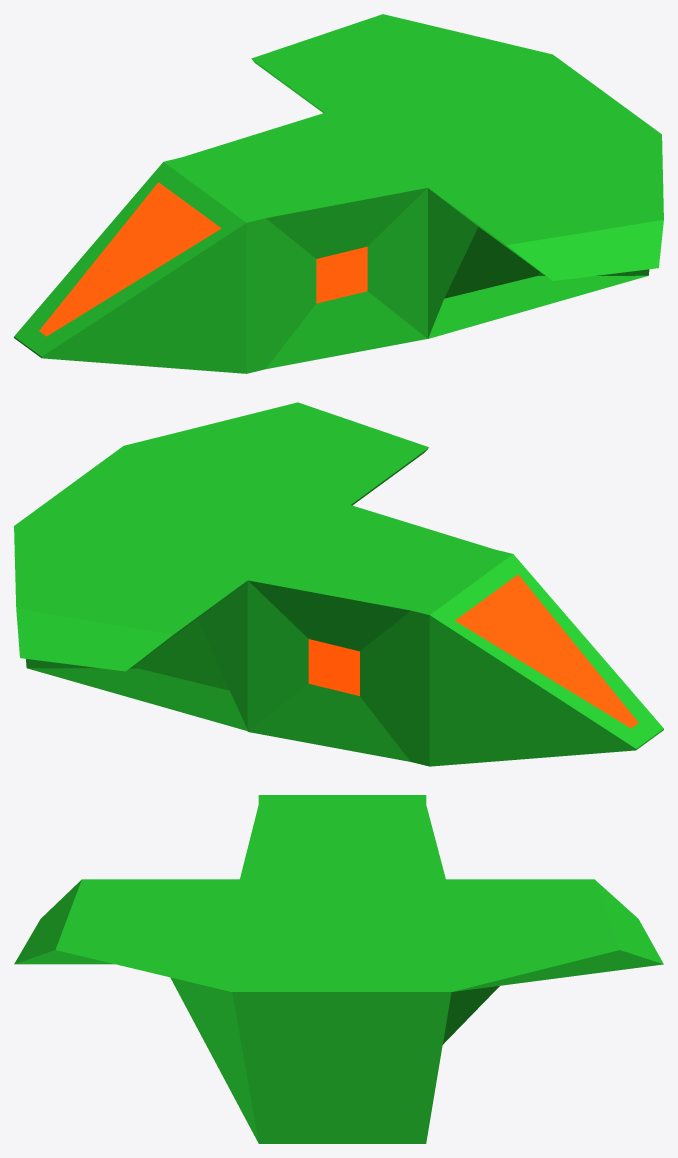
The model's file is avaruusalus_1.fbx.
3 views of the same model, one above another, from view 1: azimuth 30°, elevation 25°; view 2: azimuth 150°, elevation 25°; view 3: azimuth 270°, elevation 25° (orthographic).
Parts seen in each view (by area): view 1: Cube; view 2: Cube; view 3: Cube.
Boxes of the visible parts, x1,y1,x2,y2 form: Cube: (14,14,663,373); Cube: (14,402,663,766); Cube: (14,795,663,1143).
Bounding box in the file's own units: 803 × 200 × 777.
